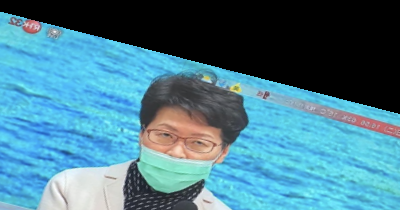mask_weared_incorrect: (128, 67, 256, 196)
